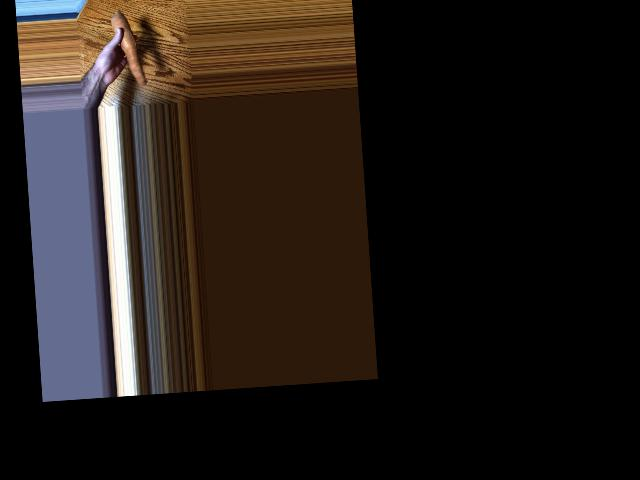sweet_potato: (114, 11, 141, 91)
